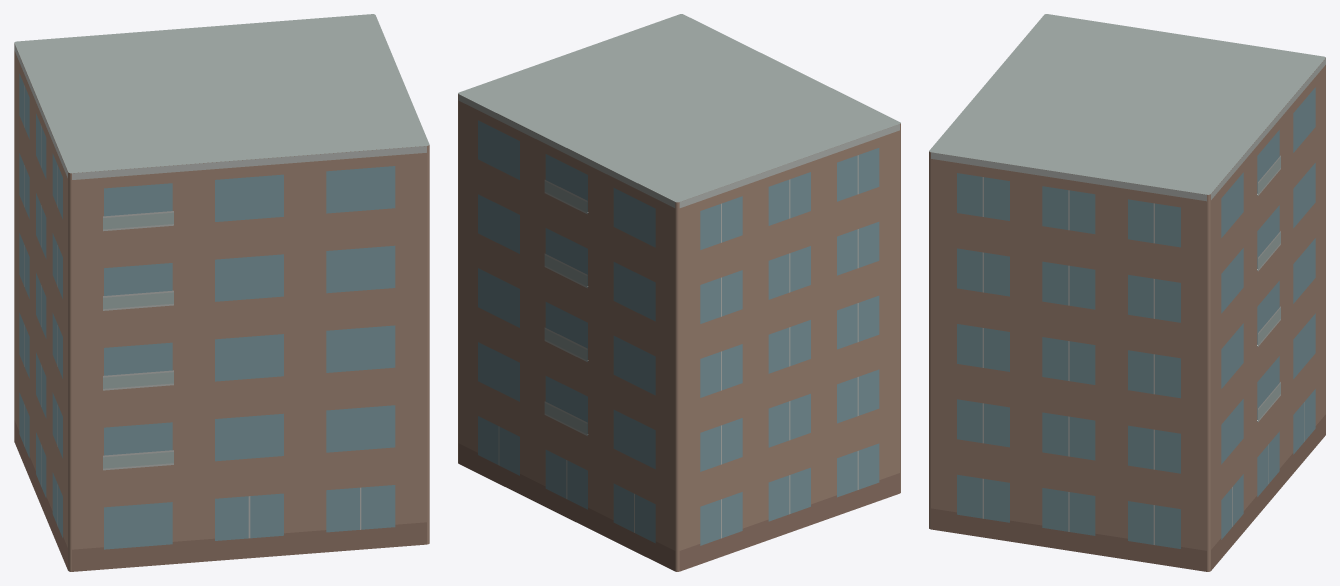
The model's file is survey-upis-32525754.glb.
3 renders of one model, left to right at view 1: azimuth 30°, elevation 25°; view 2: azimuth 150°, elevation 25°; view 3: azimuth 270°, elevation 25°, orthographic. The views are drawn at different scales.
Visible parts, largest first — view 1: survey-upis-32525754.tmp; view 2: survey-upis-32525754.tmp; view 3: survey-upis-32525754.tmp.
Part boxes in pixels (box(x1,y1,x2,y2)): survey-upis-32525754.tmp: box(14, 14, 429, 571); survey-upis-32525754.tmp: box(458, 14, 900, 571); survey-upis-32525754.tmp: box(929, 14, 1325, 571).
Bounding box in the file's own units: 14.45 × 14.05 × 13.4.
